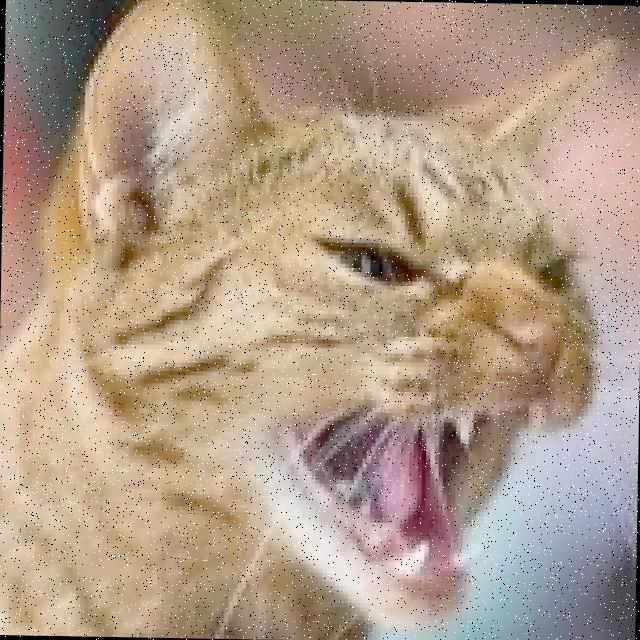Angry: (190, 165, 613, 637)
